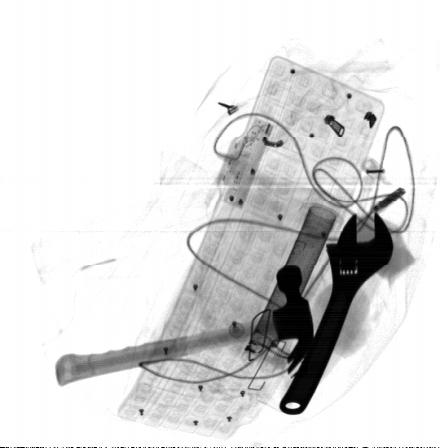Hammer: (54, 265, 315, 387)
Wrench: (279, 209, 395, 415)
